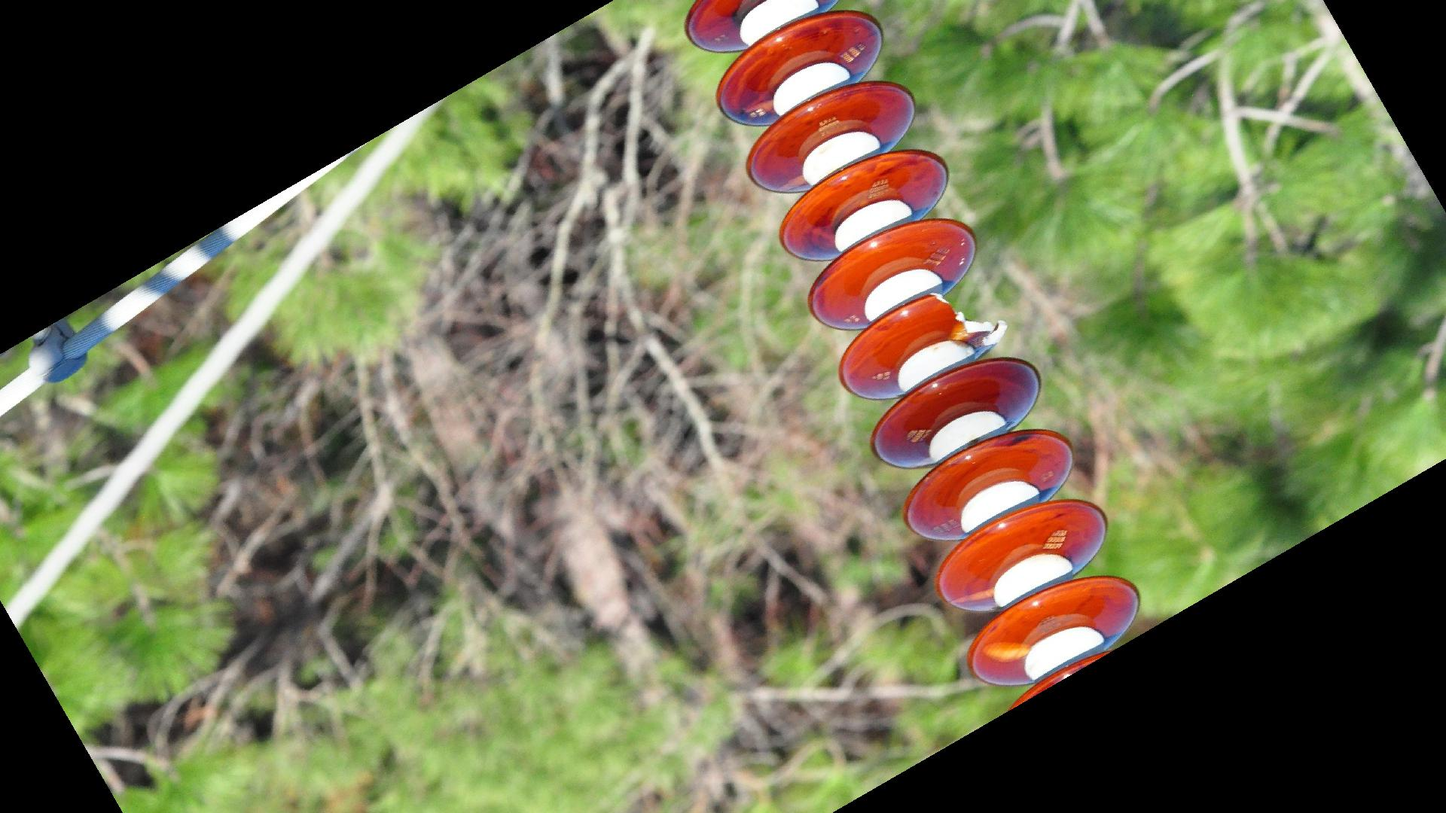insulator: (674, 1, 1150, 698)
insulator_breakage: (926, 288, 1010, 352)
insulator_flashover: (979, 638, 1034, 665)
